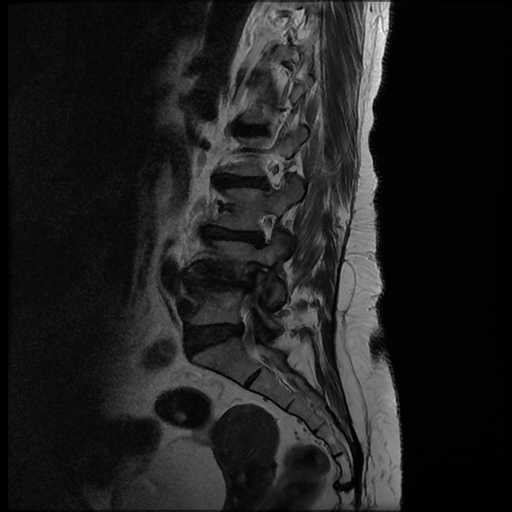LFS0: (241, 206, 295, 262)
